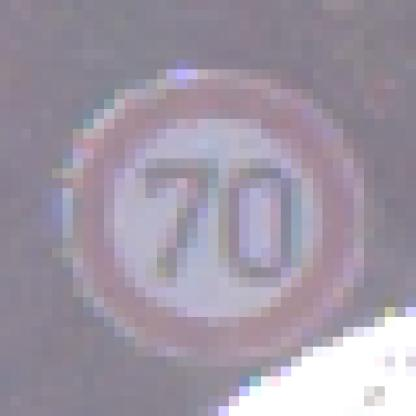Speed Limit 70: (77, 75, 358, 364)
